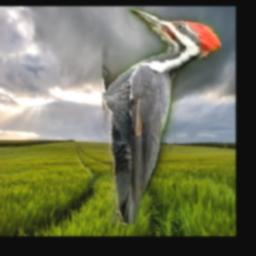Woodpecker: (103, 7, 222, 225)
